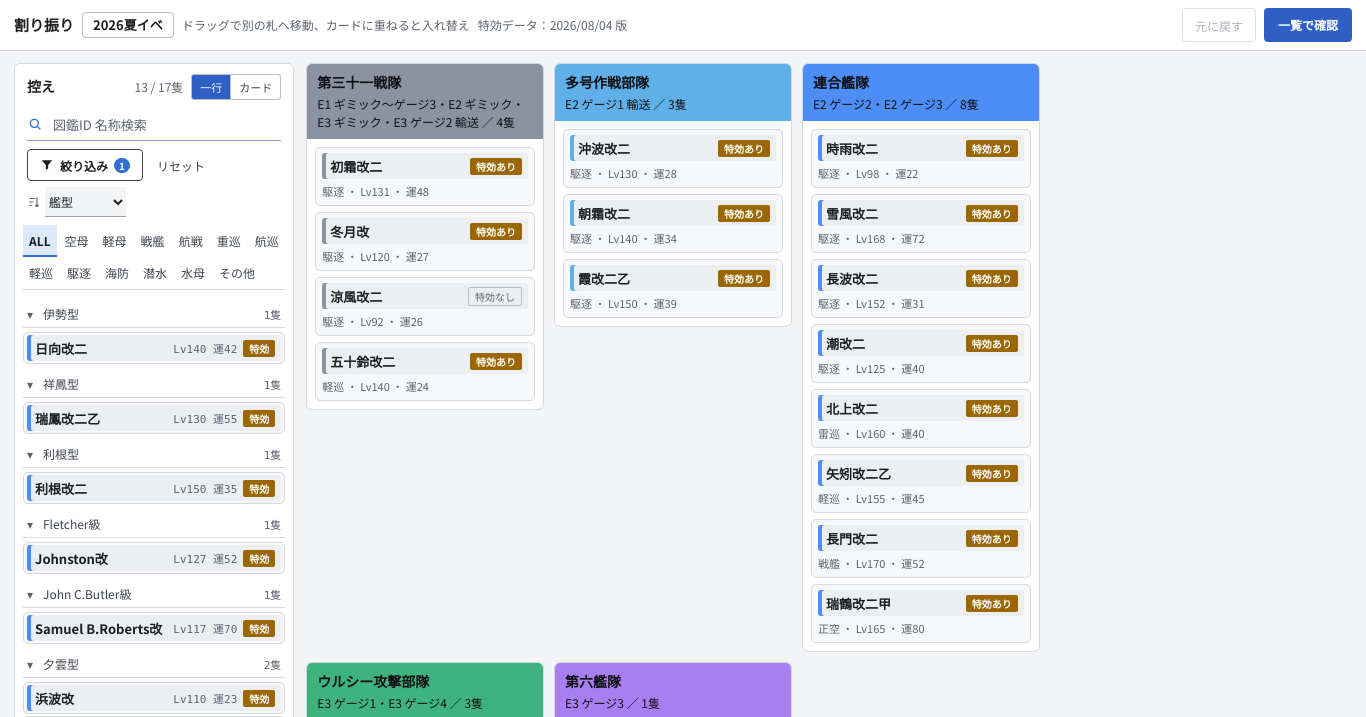
Test: 割り振り画面：艦種で絞った国籍の特効グループ（v1.1。アメリカ・駆逐 ×1.20） › 米戦艦（Iowa改。国籍は当てはまるが艦種が違う）を選ぶと、倍率を出さず「特効なし」にすべての札を並べる
The image size is (1366, 717).
# 準備：「リセット」で特効のない艦も控えに出す
Click the button "リセット" at (181, 165), box x1=149 y1=149 x2=213 y2=181
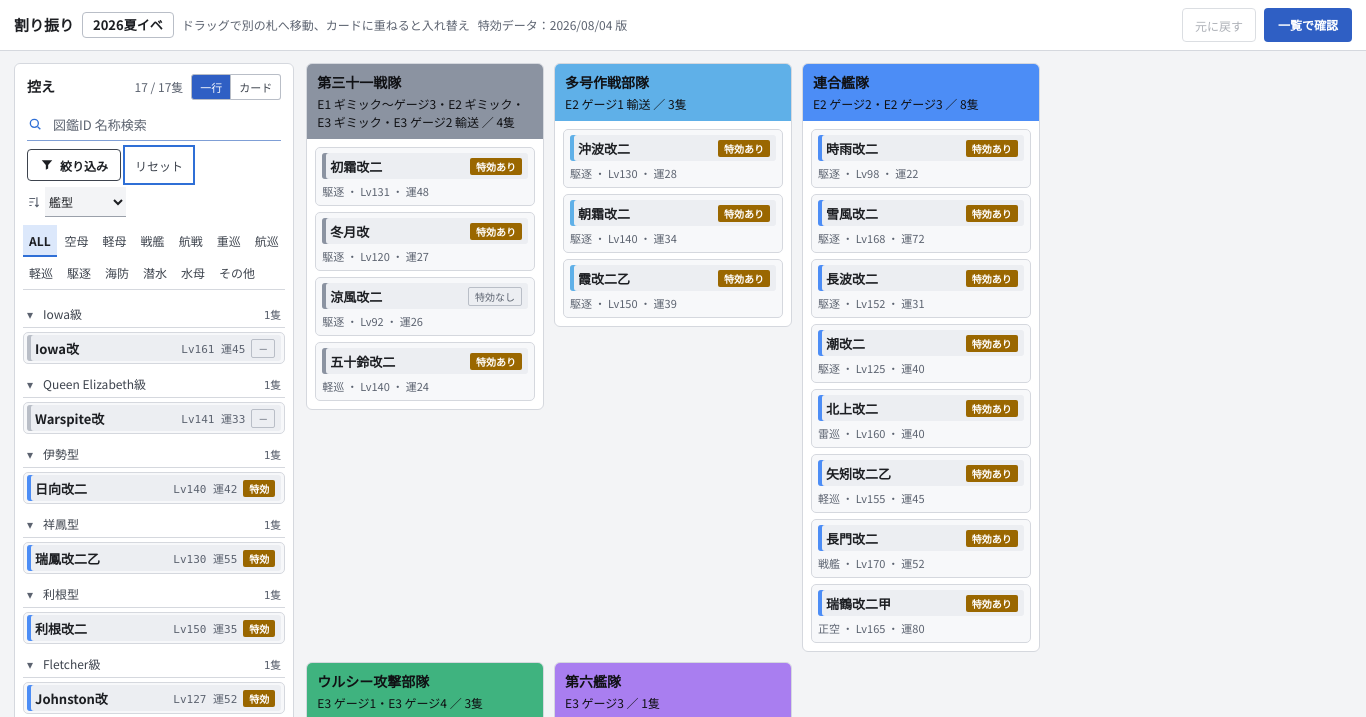
Click the button "Iowa改 Lv161 運45 －" at (154, 348), box x1=23 y1=332 x2=285 y2=364
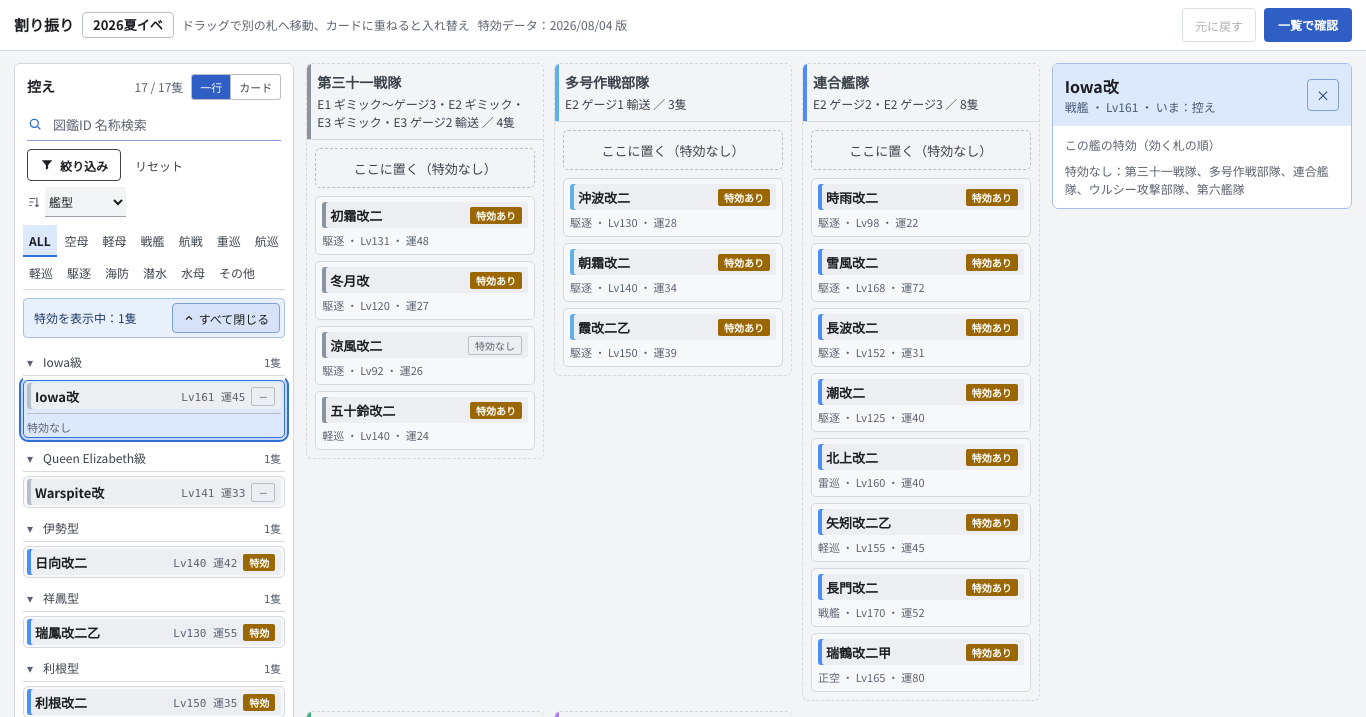
Expected: the element named "選択中の艦" reads "Iowa改 戦艦 ・ Lv161 ・ いま：控え × この艦の特効（効く札の順） 特効なし：第三十一戦隊、多号作戦部隊、連合艦隊、ウルシー攻撃部隊、第六艦隊", x1=1052 y1=63 x2=1352 y2=209
